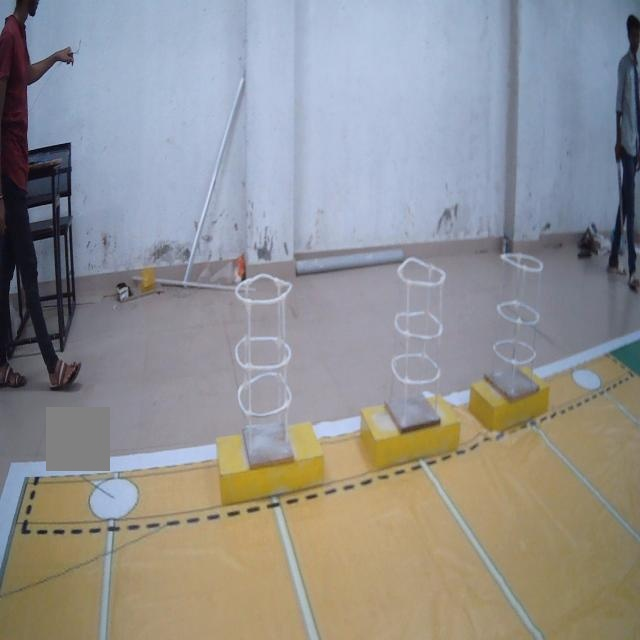silo: (228, 258, 309, 476), (384, 244, 450, 438), (486, 234, 546, 412)
